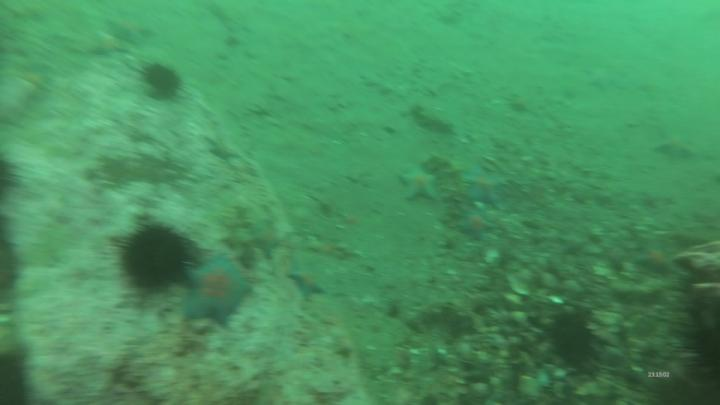echinus: (110, 216, 203, 305), (547, 305, 598, 371), (139, 58, 186, 99)
holothurian: (412, 102, 457, 139)
starfish: (184, 252, 255, 328), (461, 167, 507, 210), (289, 259, 328, 299), (637, 243, 676, 275), (400, 171, 439, 202), (458, 213, 493, 243)
